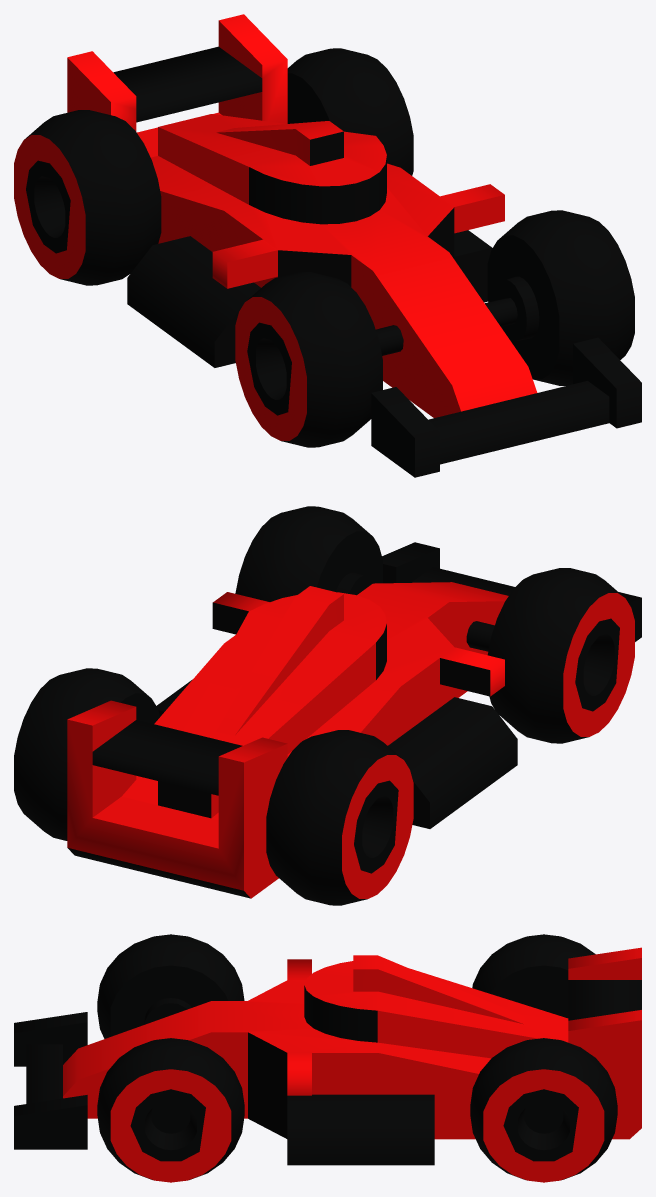
File: race.glb
3 renders of one model, top to bottom at view 1: azimuth 30°, elevation 25°; view 2: azimuth 150°, elevation 25°; view 3: azimuth 270°, elevation 25°, orthographic. The views are drawn at different scales.
Visible parts, largest first — view 1: body, wheel-back-right, wheel-front-right, wheel-front-left, wheel-back-left; view 2: body, wheel-back-right, wheel-front-right, wheel-back-left, wheel-front-left; view 3: body, wheel-back-left, wheel-front-left, wheel-front-right, wheel-back-right.
Boxes of the visible parts, x1,y1,x2,y2 form: body: [67, 14, 641, 477]; wheel-back-right: [14, 110, 161, 285]; wheel-front-right: [235, 272, 382, 447]; wheel-front-left: [487, 210, 634, 385]; wheel-back-left: [287, 48, 413, 175]; body: [67, 542, 641, 898]; wheel-back-right: [266, 730, 413, 905]; wheel-front-right: [487, 568, 634, 743]; wheel-back-left: [14, 668, 159, 840]; wheel-front-left: [235, 506, 382, 601]; body: [14, 947, 641, 1165]; wheel-back-left: [470, 1038, 617, 1182]; wheel-front-left: [97, 1038, 244, 1182]; wheel-front-right: [97, 934, 244, 1038]; wheel-back-right: [472, 934, 595, 1018].
Size of the model in its own units: 1.3 by 0.7327 by 2.56.
Materials: 1 (1 with a texture image).
